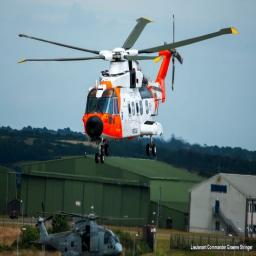helicopter: (19, 19, 241, 164)
